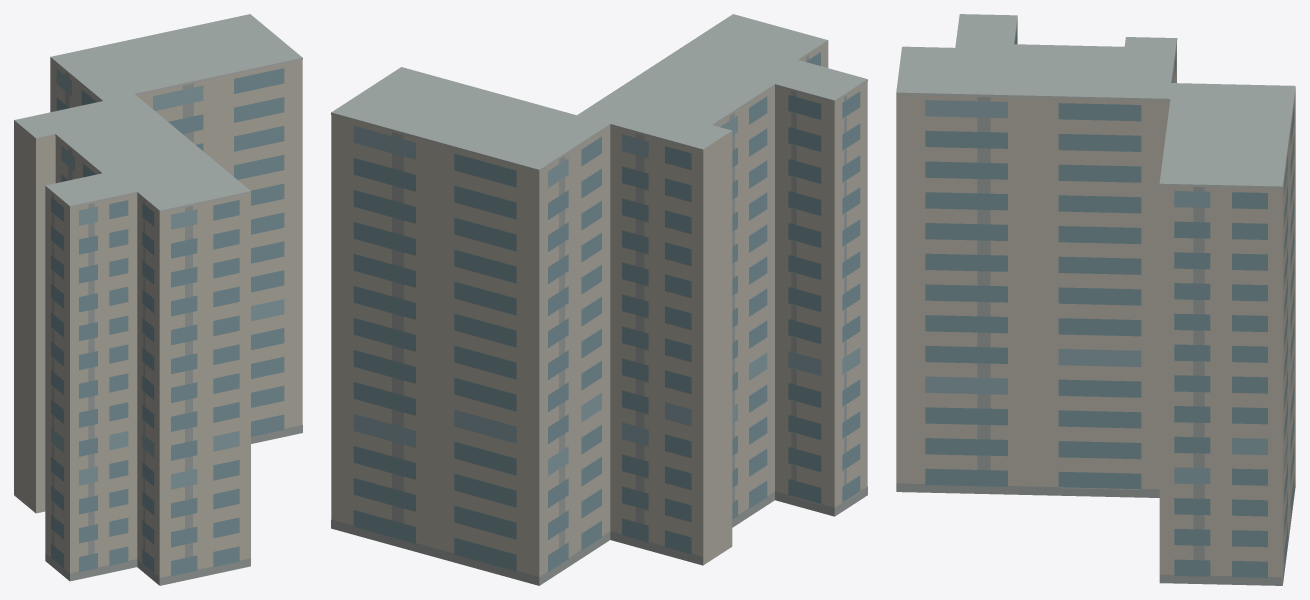
File: residential-951c1fb7-4947-4316-8962-c05b41b8cd82.glb
3 views of the same model, side by side, from view 1: azimuth 30°, elevation 25°; view 2: azimuth 150°, elevation 25°; view 3: azimuth 270°, elevation 25° (orthographic). The views are drawn at different scales.
Visible parts, largest first — view 1: residential-951c1fb7-4947-4316-8962-c05b41b8cd82.tmp; view 2: residential-951c1fb7-4947-4316-8962-c05b41b8cd82.tmp; view 3: residential-951c1fb7-4947-4316-8962-c05b41b8cd82.tmp.
Boxes of the visible parts, bbox=[...] form: residential-951c1fb7-4947-4316-8962-c05b41b8cd82.tmp: bbox=[14, 14, 302, 585]; residential-951c1fb7-4947-4316-8962-c05b41b8cd82.tmp: bbox=[331, 14, 867, 585]; residential-951c1fb7-4947-4316-8962-c05b41b8cd82.tmp: bbox=[896, 14, 1295, 585].
Bounding box in the file's own units: 36.74 × 39.65 × 35.96.
